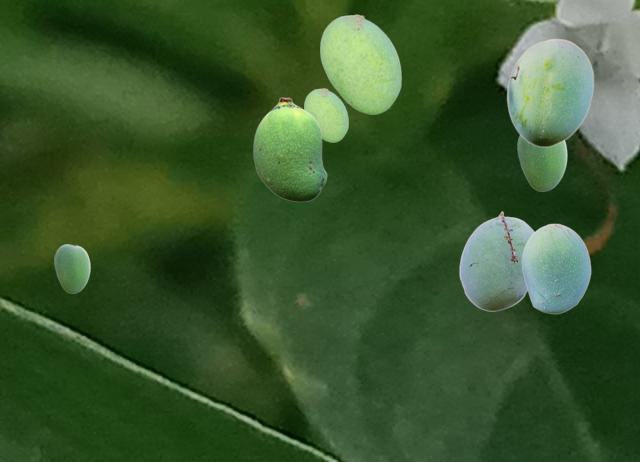green_mango: (506, 38, 593, 146), (320, 14, 400, 113), (253, 97, 326, 201), (459, 211, 534, 310), (521, 223, 590, 313), (517, 136, 566, 190), (304, 88, 347, 141), (54, 244, 89, 292)
